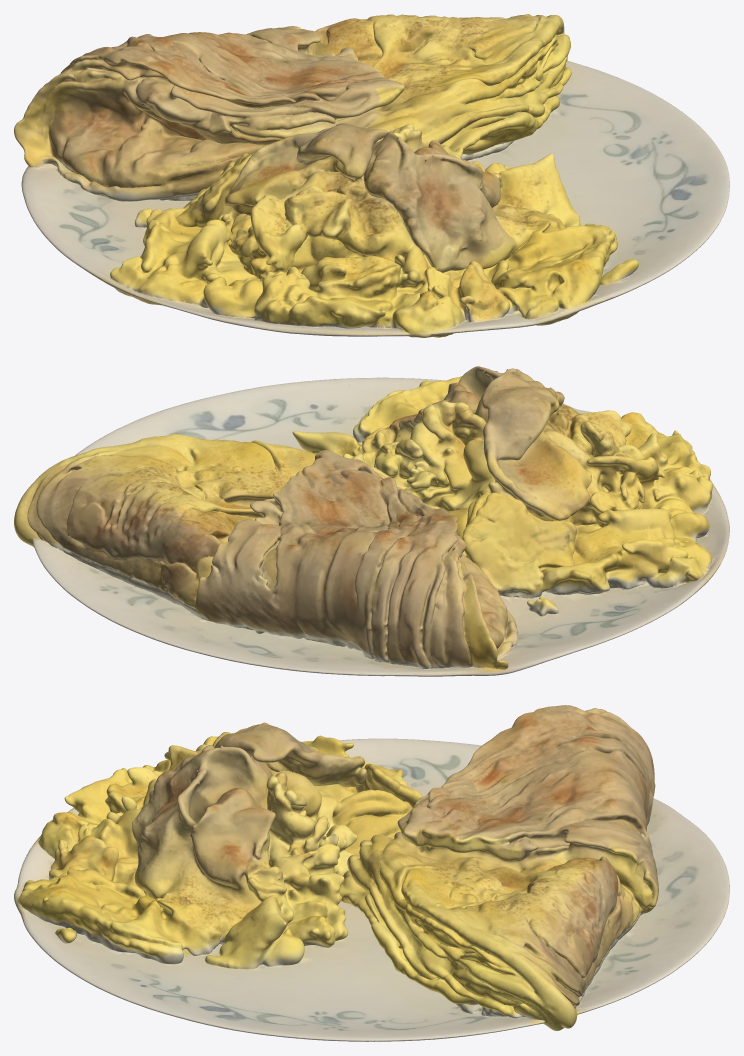
The model's file is img_1503-2026-09-14.glb.
The picture shows the model from 3 angles, top to bottom: view 1: azimuth 30°, elevation 25°; view 2: azimuth 150°, elevation 25°; view 3: azimuth 270°, elevation 25°; orthographic projection. The views are drawn at different scales.
Bounding box in the file's own units: 1.89 × 0.4116 × 1.9.
1 material, 1 textured.
